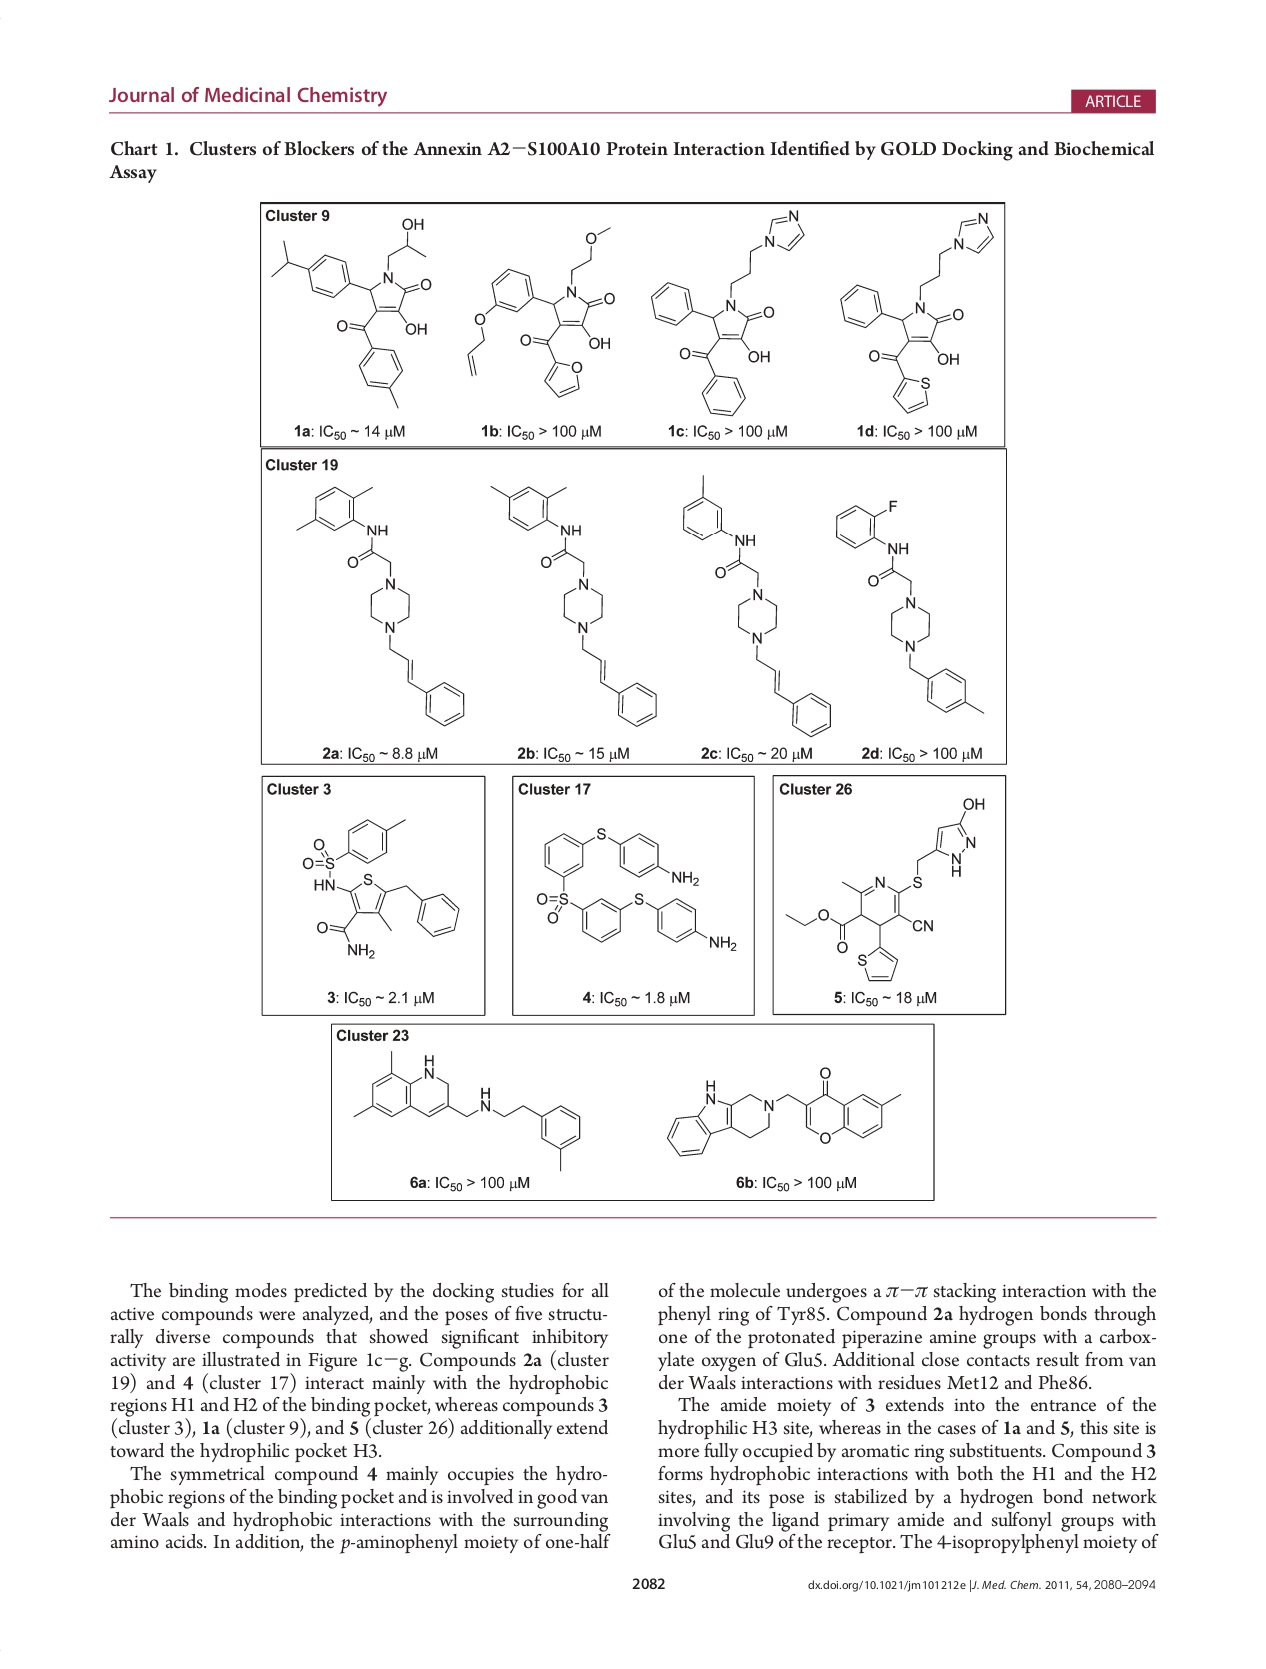exist_molecular: (485, 479, 664, 727), (297, 483, 471, 727), (678, 472, 832, 741), (781, 797, 987, 985), (832, 489, 989, 719), (644, 209, 807, 419), (832, 207, 995, 418), (273, 213, 439, 411), (529, 818, 738, 960), (352, 1048, 586, 1173), (465, 225, 622, 402), (297, 814, 465, 959), (661, 1063, 904, 1160)
